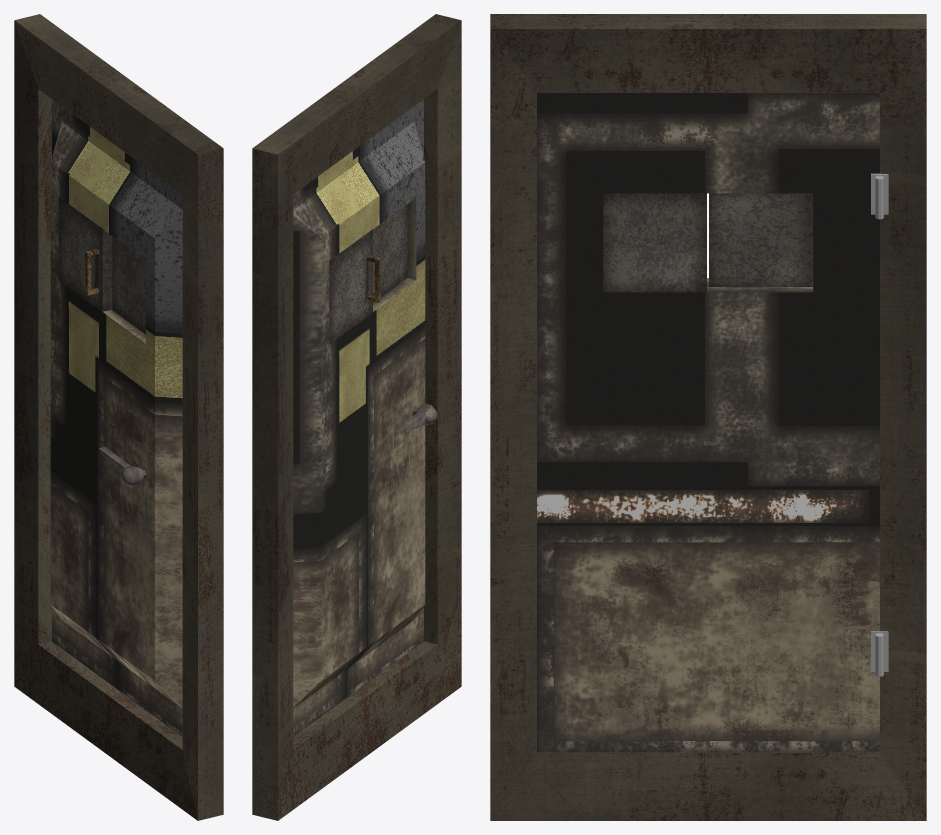
The model's file is Door_with_Hinges.fbx.
3 renders of one model, left to right at view 1: azimuth 30°, elevation 25°; view 2: azimuth 150°, elevation 25°; view 3: azimuth 270°, elevation 25°, orthographic. The views are drawn at different scales.
Visible parts, largest first — view 1: pasted__polySurface42, pasted__polySurface39, polySurface219, pasted__polySurface37, pasted__polySurface41; view 2: pasted__polySurface42, pasted__polySurface39, polySurface219, pasted__polySurface37, pasted__polySurface41, polySurface220; view 3: pasted__polySurface39, pasted__polySurface42, pasted__polySurface37, polySurface219, Door_Mechanic_Top, Door_Mechanic_Bottom.
Boxes of the visible parts, x1,y1,x2,y2 form: pasted__polySurface42: [14, 14, 223, 820]; pasted__polySurface39: [50, 99, 182, 736]; polySurface219: [59, 197, 112, 312]; pasted__polySurface37: [112, 236, 145, 334]; pasted__polySurface41: [99, 447, 146, 487]; pasted__polySurface42: [252, 14, 461, 820]; pasted__polySurface39: [293, 99, 425, 736]; polySurface219: [329, 229, 372, 344]; pasted__polySurface37: [373, 204, 407, 302]; pasted__polySurface41: [393, 403, 438, 433]; polySurface220: [367, 256, 380, 302]; pasted__polySurface39: [537, 92, 879, 752]; pasted__polySurface42: [490, 14, 926, 820]; pasted__polySurface37: [603, 193, 706, 292]; polySurface219: [709, 193, 812, 286]; Door_Mechanic_Top: [871, 173, 888, 219]; Door_Mechanic_Bottom: [871, 631, 888, 676].
Bounding box in the file's own units: 1.22 × 13.86 × 6.92.
